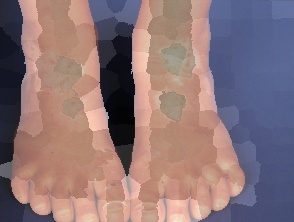vitiligo: (131, 12, 259, 222), (8, 41, 127, 222)
